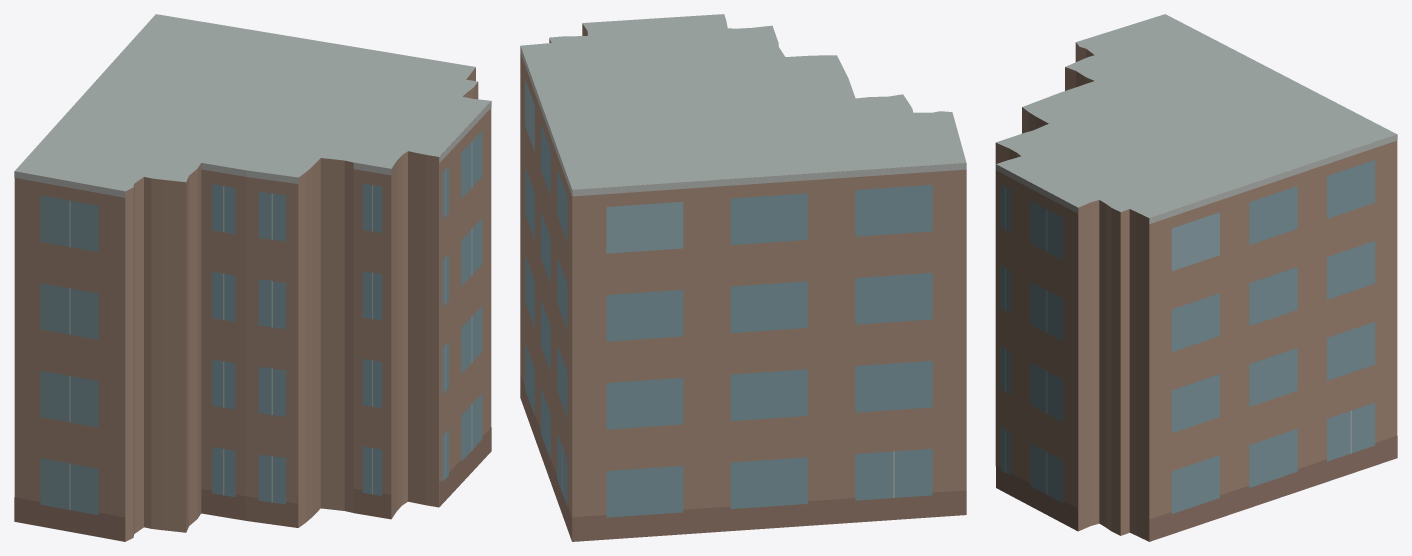
Rendered from survey-upis-32883510.glb.
3 renders of one model, left to right at view 1: azimuth 30°, elevation 25°; view 2: azimuth 150°, elevation 25°; view 3: azimuth 270°, elevation 25°, orthographic. The views are drawn at different scales.
Parts seen in each view (by area): view 1: survey-upis-32883510.tmp; view 2: survey-upis-32883510.tmp; view 3: survey-upis-32883510.tmp.
Boxes of the visible parts, bbox=[...] form: survey-upis-32883510.tmp: bbox=[14, 14, 491, 541]; survey-upis-32883510.tmp: bbox=[520, 14, 966, 541]; survey-upis-32883510.tmp: bbox=[995, 14, 1397, 541].
Size of the model in its own units: 17.59 by 13 by 14.63.
